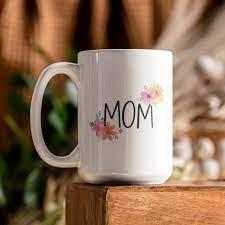Mug: (21, 39, 201, 204)
